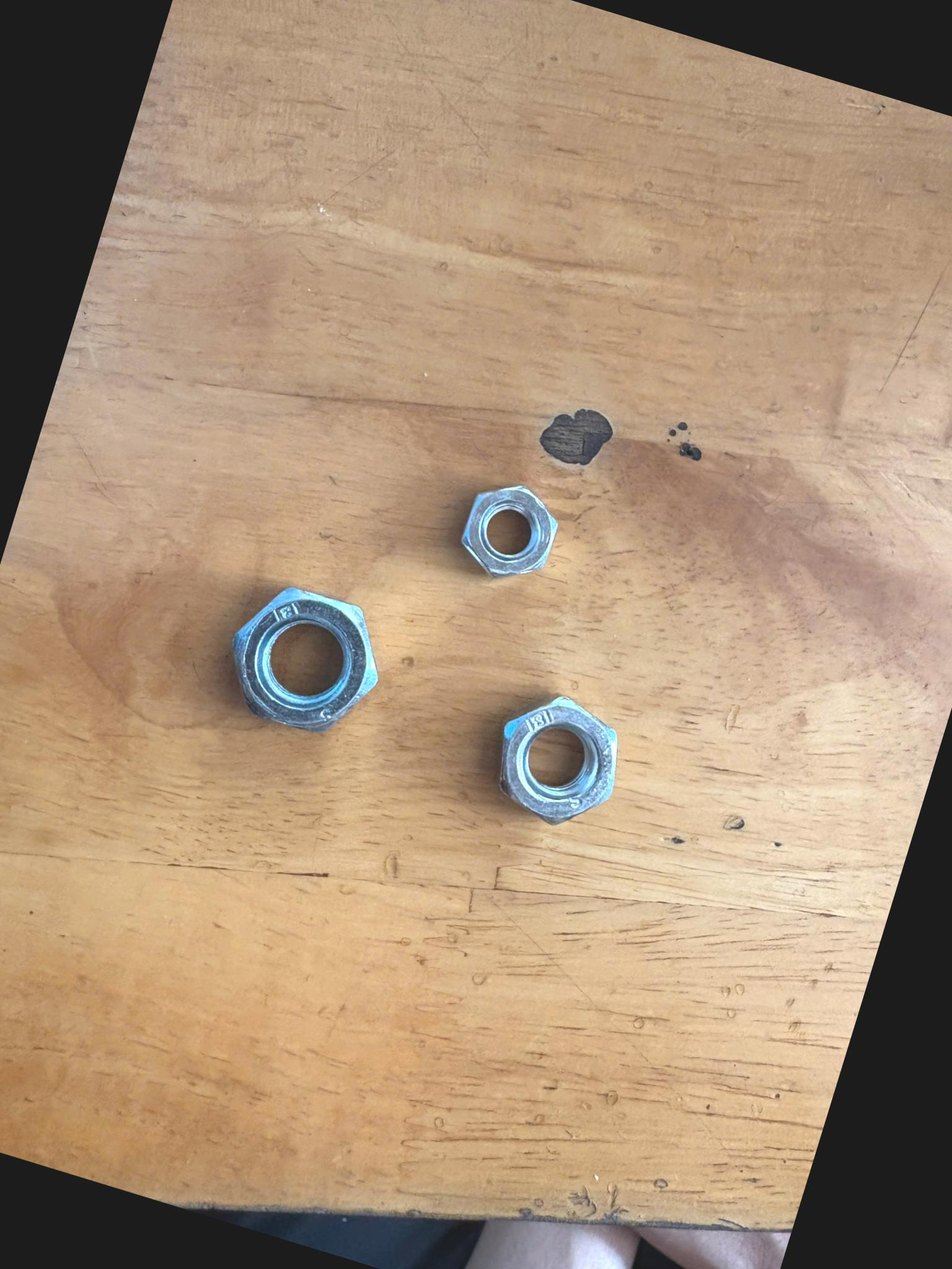nut: (205, 564, 410, 764), (441, 466, 568, 601)
